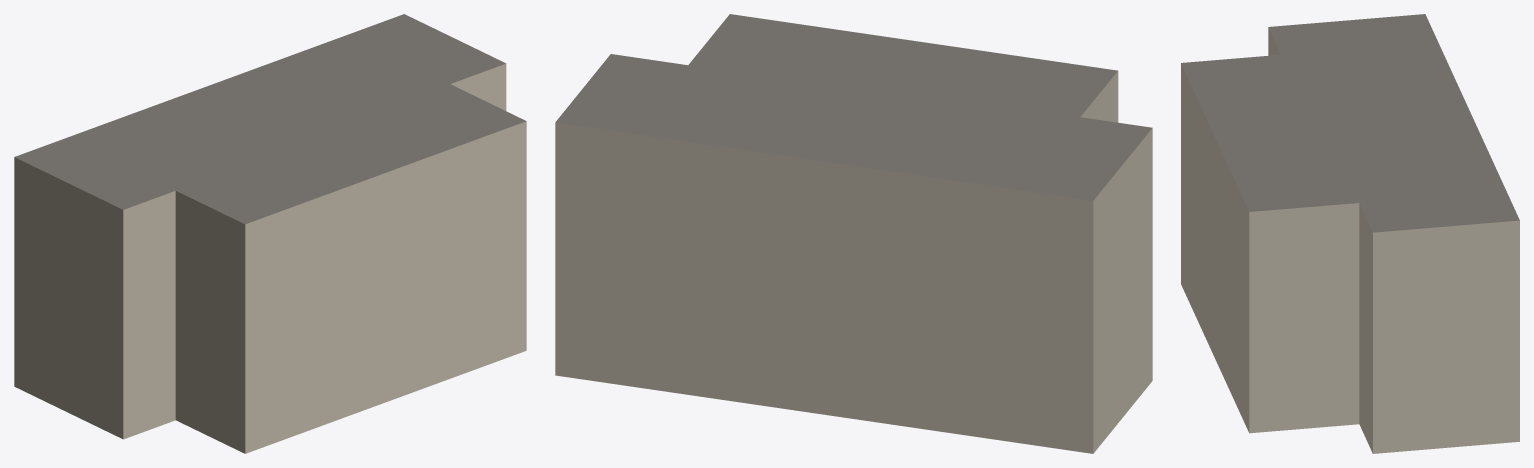
The picture shows the model from 3 angles, left to right: view 1: azimuth 30°, elevation 25°; view 2: azimuth 150°, elevation 25°; view 3: azimuth 270°, elevation 25°; orthographic projection. The views are drawn at different scales.
Parts seen in each view (by area): view 1: HP-w1323525528; view 2: HP-w1323525528; view 3: HP-w1323525528.
Boxes of the visible parts, x1,y1,x2,y2 form: HP-w1323525528: [14, 14, 526, 453]; HP-w1323525528: [555, 14, 1152, 453]; HP-w1323525528: [1181, 14, 1519, 453].
Bounding box in the file's own units: 38.15 × 18 × 24.99.
